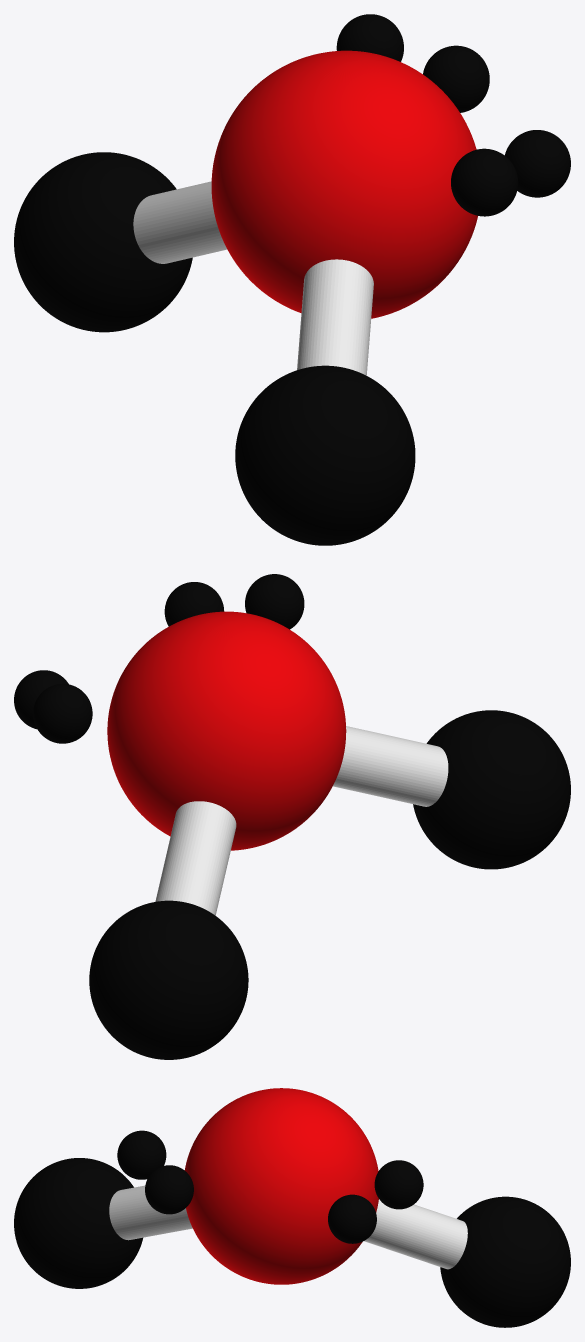
File: bent4.glb
3 views of the same model, one above another, from view 1: azimuth 30°, elevation 25°; view 2: azimuth 150°, elevation 25°; view 3: azimuth 270°, elevation 25° (orthographic). The views are drawn at different scales.
Parts seen in each view (by area): view 1: Sphere, Sphere.003, Sphere.004, Sphere.001, Sphere.005; view 2: Sphere, Sphere.004, Sphere.003, Sphere.005, Sphere.001; view 3: Sphere, Sphere.004, Sphere.003, Sphere.005, Sphere.001.
Part boxes in pixels (box(x1,y1,x2,y2)): Sphere: box(211, 50, 477, 318); Sphere.003: box(235, 259, 415, 545); Sphere.004: box(14, 152, 227, 332); Sphere.001: box(451, 130, 570, 216); Sphere.005: box(336, 14, 489, 112); Sphere: box(107, 611, 346, 850); Sphere.004: box(89, 801, 248, 1059); Sphere.003: box(333, 710, 570, 869); Sphere.005: box(14, 670, 92, 743); Sphere.001: box(164, 574, 304, 629); Sphere: box(184, 1088, 378, 1284); Sphere.004: box(364, 1196, 570, 1327); Sphere.003: box(14, 1158, 192, 1288); Sphere.005: box(328, 1160, 423, 1243); Sphere.001: box(117, 1130, 193, 1214).
Size of the model in its own units: 5.42 by 4.28 by 8.44.
